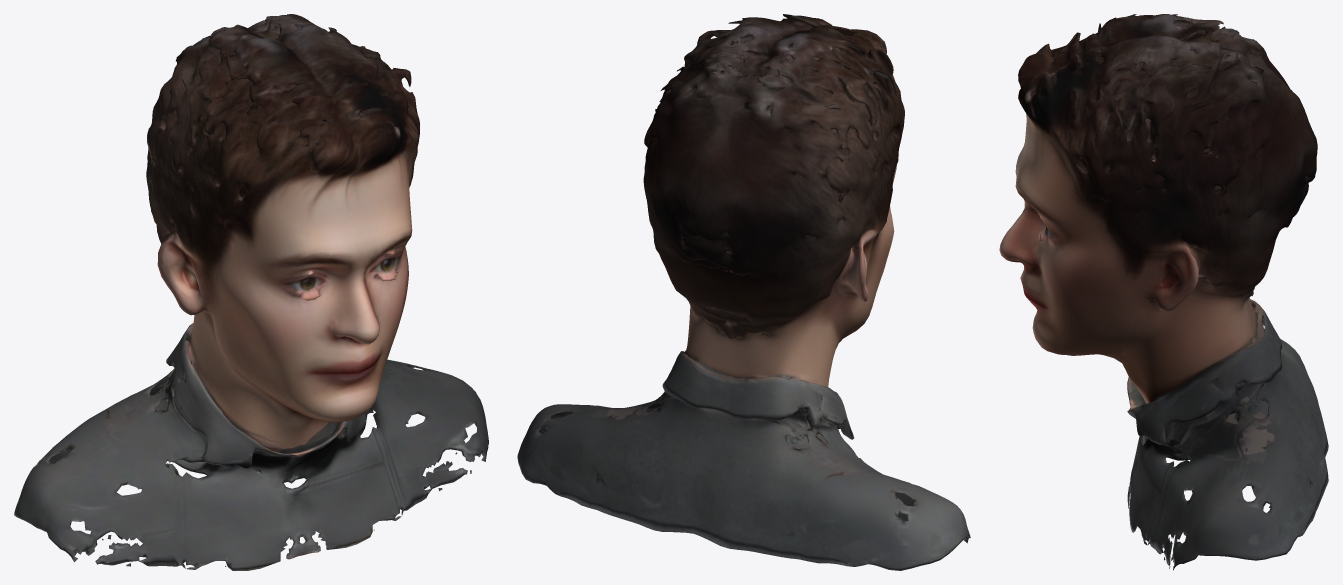
3 renders of one model, left to right at view 1: azimuth 30°, elevation 25°; view 2: azimuth 150°, elevation 25°; view 3: azimuth 270°, elevation 25°, orthographic. The views are drawn at different scales.
Visible parts, largest first — view 1: head, body; view 2: head, body; view 3: head, body.
Boxes of the visible parts, x1,y1,x2,y2 form: head: [146, 14, 419, 422]; body: [14, 316, 488, 570]; head: [643, 14, 904, 358]; body: [517, 321, 970, 570]; head: [999, 14, 1317, 371]; body: [1126, 297, 1328, 570].
Size of the model in its own units: 1.84 by 1.99 by 1.25.
Materials: 2 (2 with a texture image).
